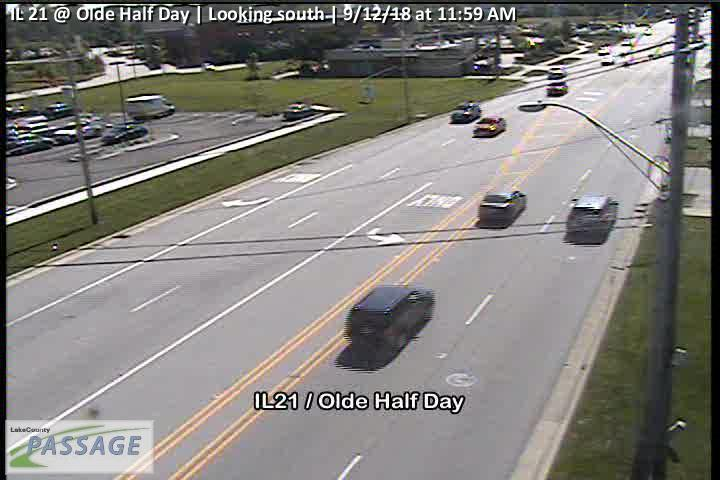SUV: (343, 284, 433, 353), (568, 194, 618, 238)
Sedan: (479, 189, 525, 227), (3, 134, 55, 158), (53, 121, 100, 141), (100, 125, 148, 144), (471, 114, 506, 138), (450, 102, 482, 125), (281, 101, 309, 119)
Truck: (123, 92, 177, 118)
